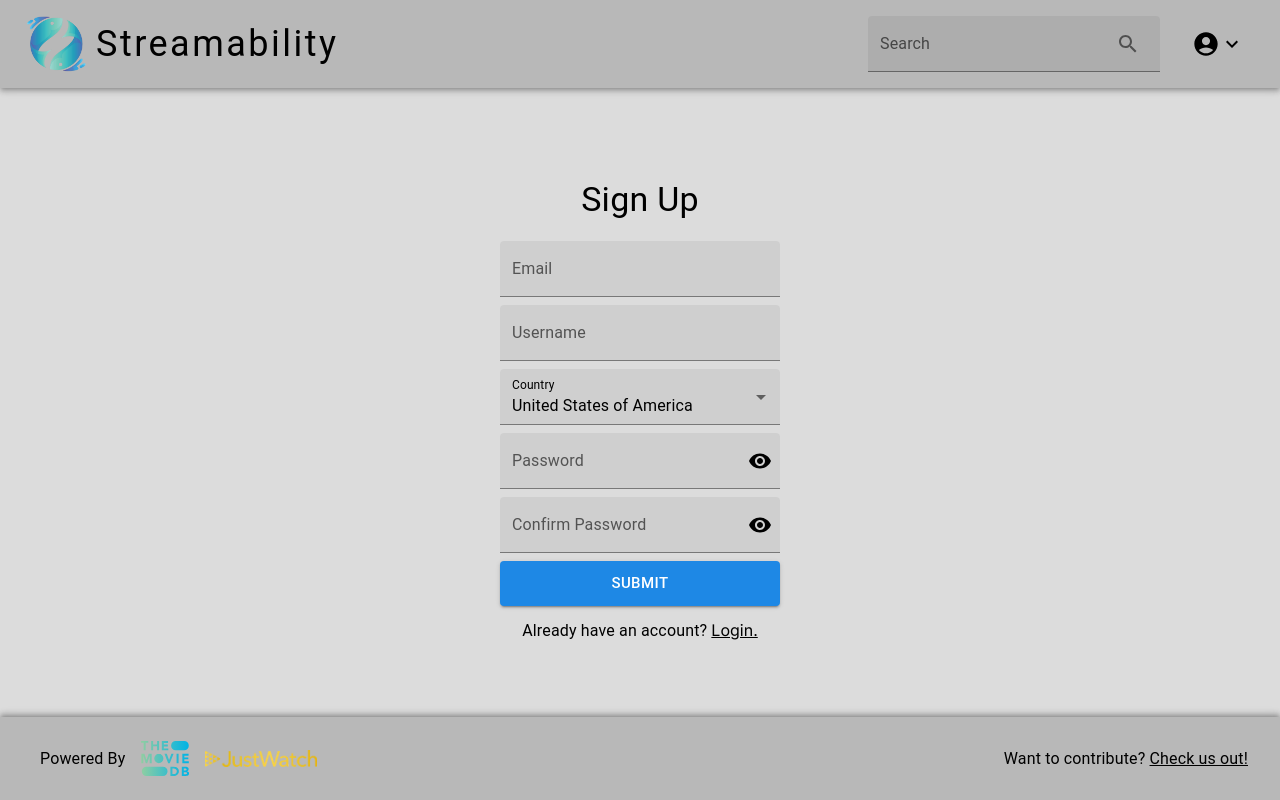
Sign Up Screen › does not allow submission invalid email
The width and height of the screenshot is (1280, 800).
Expected: the element with test id "signup-screen" is shown, [496,88,784,717]
Step 1. Type "invalid@email" into the field labelled "Email" → (640, 269), box [500,241,780,297]
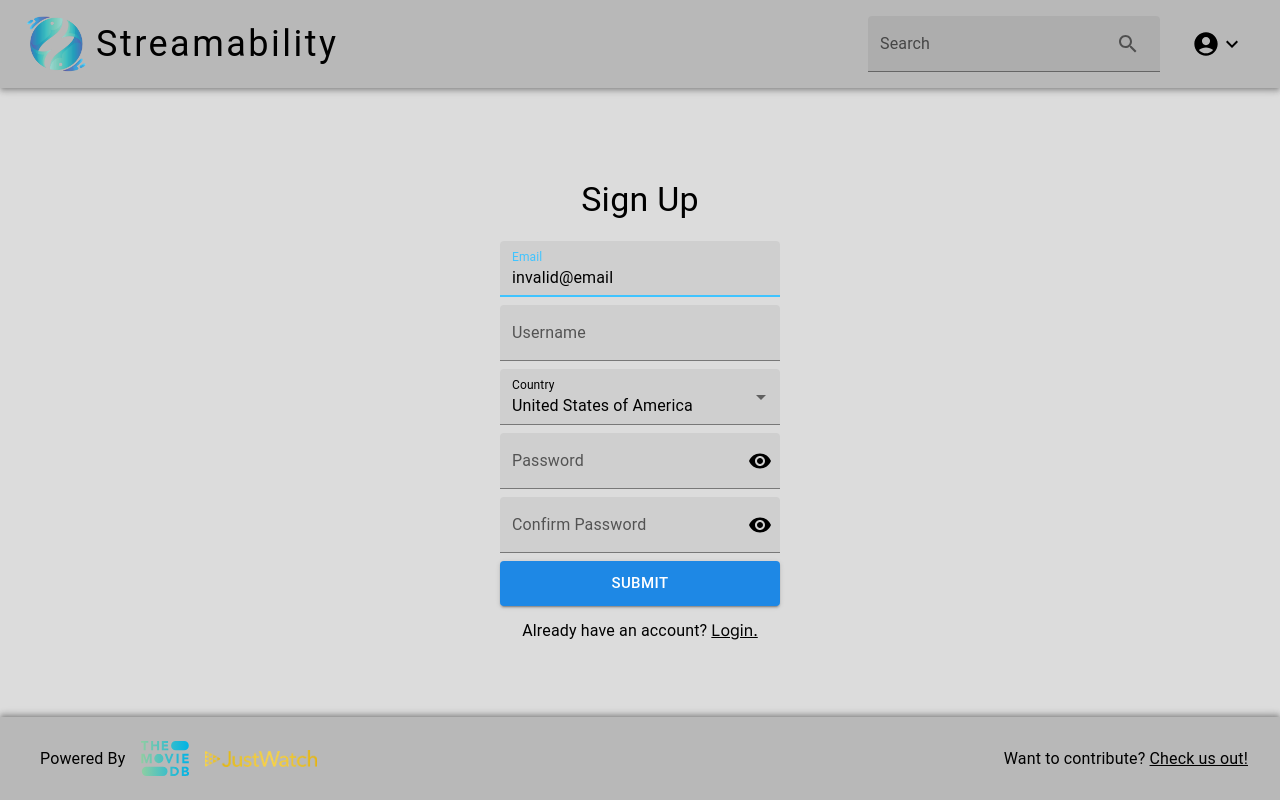
Step 2. Type "testuser" into the field labelled "Username" → (640, 333), box [500,305,780,361]
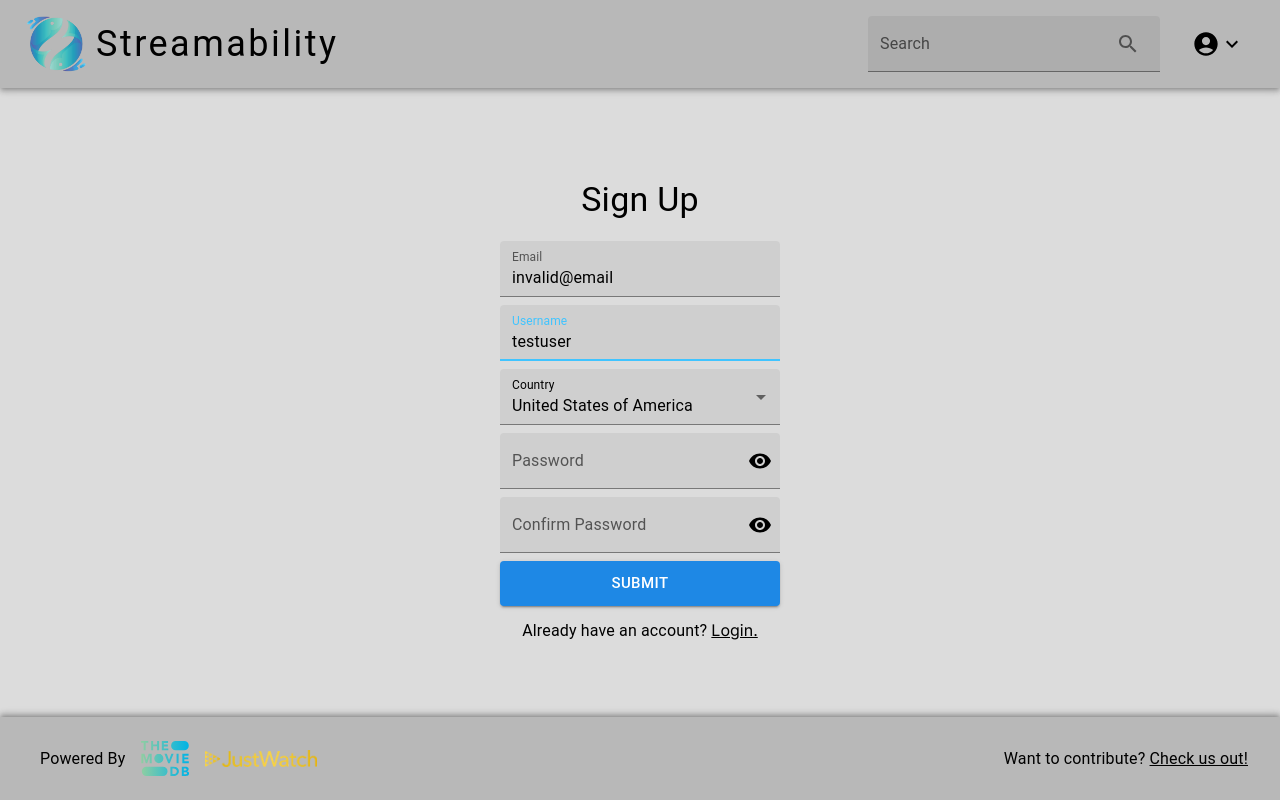
Step 3. Type "password" into the password field labelled "Password" → (616, 461), box [500,433,732,489]
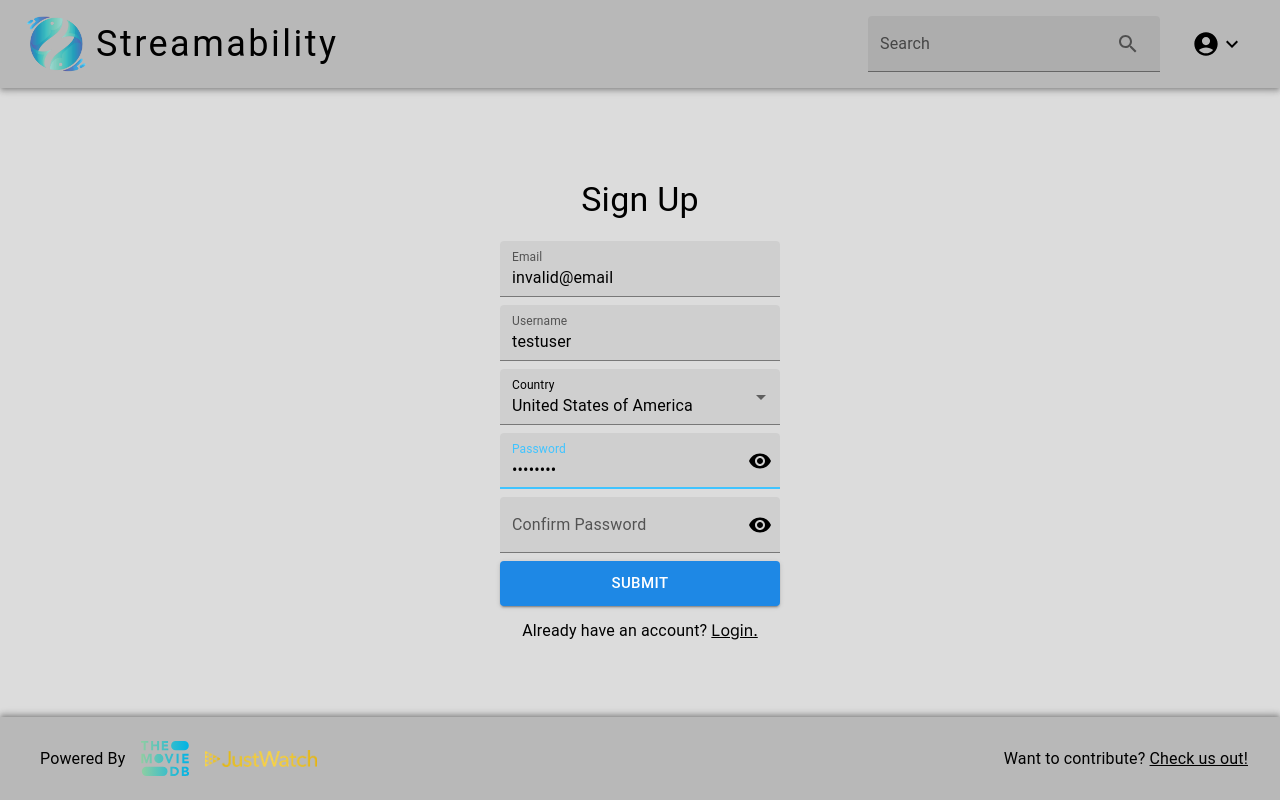
Step 4. Type "password" into the password field labelled "Confirm Password" → (616, 525), box [500,497,732,553]
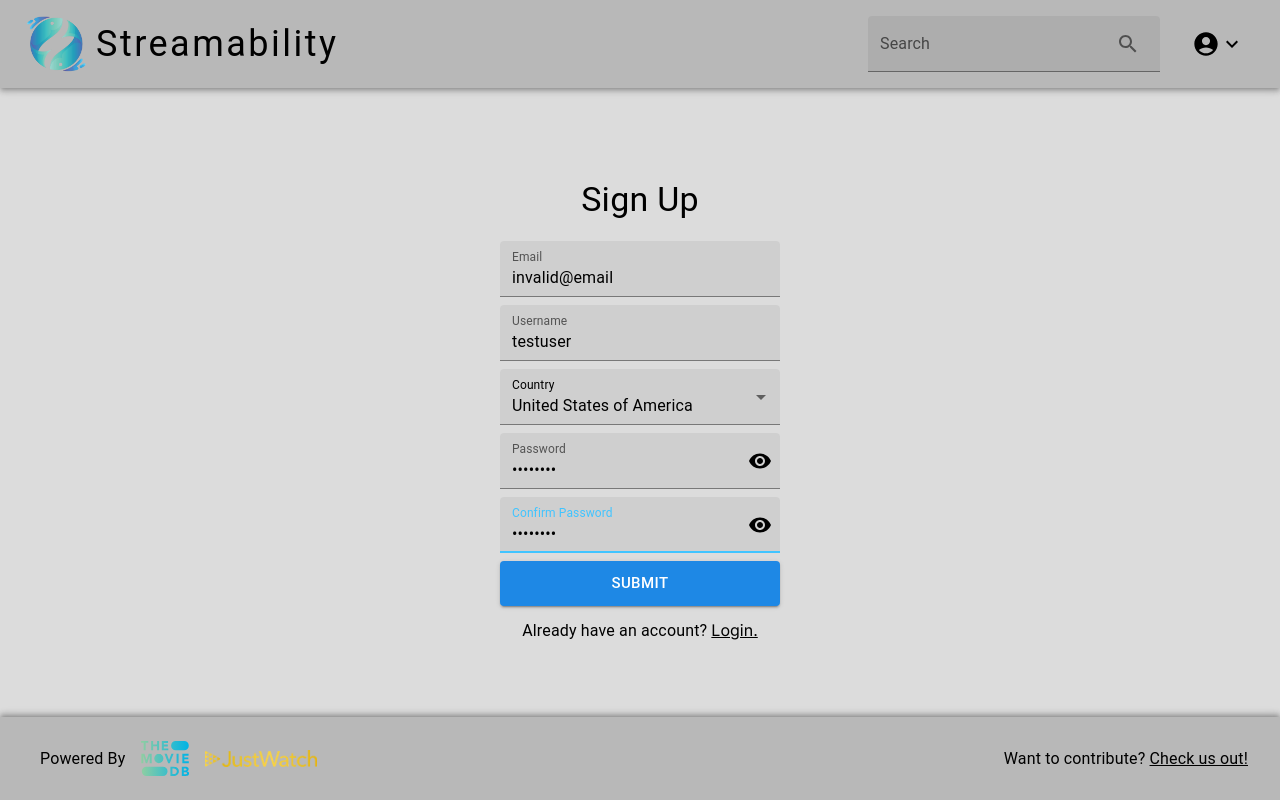
Step 5. Click the button "Submit" → (640, 583), box [500,561,780,606]
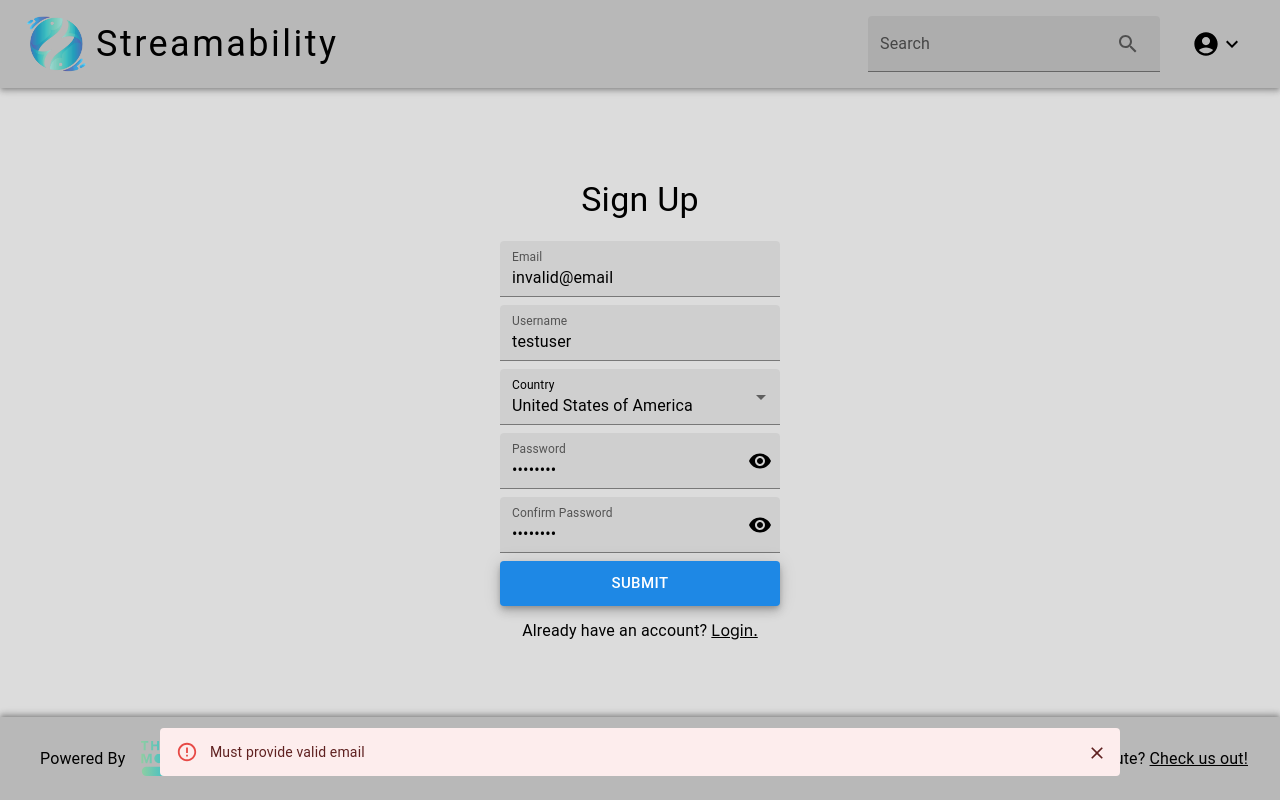
Now the text "Must provide valid email" is shown, box [210,744,365,760]
